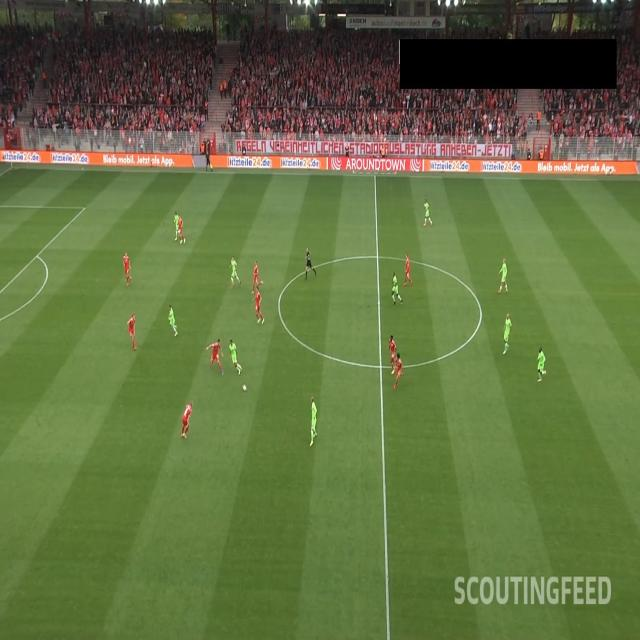ball: (242, 384, 248, 393)
